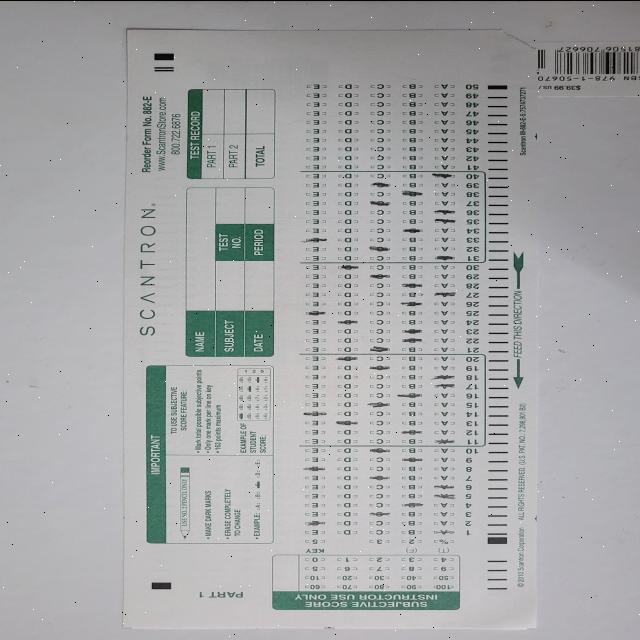scantron: (121, 27, 538, 628)
